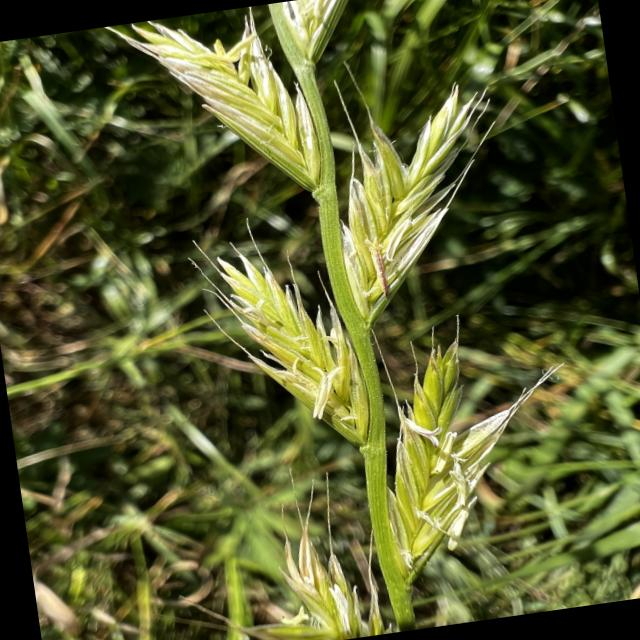Lolium: (104, 0, 595, 640)
